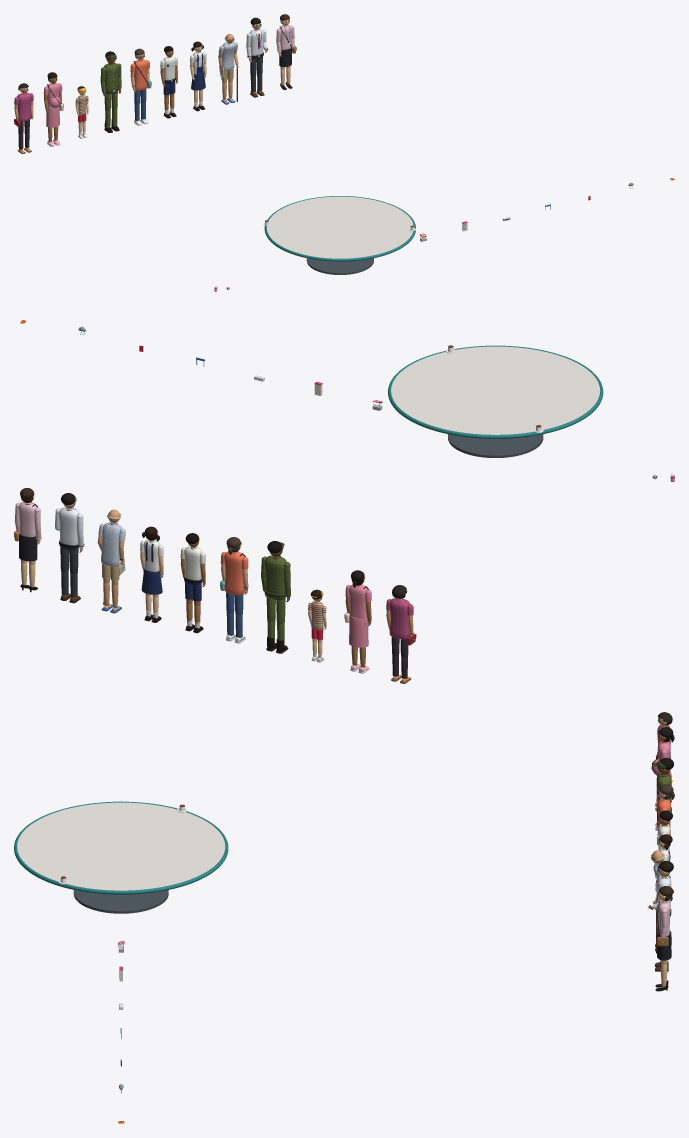
File: makan-assets.glb
3 views of the same model, one above another, from view 1: azimuth 30°, elevation 25°; view 2: azimuth 150°, elevation 25°; view 3: azimuth 270°, elevation 25° (orthographic). The views are drawn at different scales.
Visible parts, largest first — view 1: KT_top, Char_ns_Stand_Mesh, Char_worker_a_Stand_Mesh, Char_parent_Stand_Mesh, Char_uncle_Stand_Mesh, Char_expecting_Stand_Mesh, Char_worker_b_Stand_Mesh, Char_aunty_Stand_Mesh, Char_student_a_Stand_Mesh, Char_student_b_Stand_Mesh, KT_edge, KT_base (+1 smaller); view 2: KT_top, Char_ns_Stand_Mesh, Char_worker_a_Stand_Mesh, Char_parent_Stand_Mesh, Char_expecting_Stand_Mesh, Char_uncle_Stand_Mesh, Char_worker_b_Stand_Mesh, Char_aunty_Stand_Mesh, Char_student_a_Stand_Mesh, Char_student_b_Stand_Mesh, KT_base, KT_edge (+1 smaller); view 3: KT_top, KT_base, KT_edge, Char_worker_b_Stand_Mesh.
Part boxes in pixels (box(x1,y1,x2,y2)): KT_top: box(267, 196, 413, 258); Char_ns_Stand_Mesh: box(100, 51, 121, 132); Char_worker_a_Stand_Mesh: box(246, 17, 268, 97); Char_parent_Stand_Mesh: box(130, 48, 151, 125); Char_uncle_Stand_Mesh: box(218, 34, 238, 104); Char_expecting_Stand_Mesh: box(43, 72, 63, 146); Char_worker_b_Stand_Mesh: box(276, 14, 296, 89); Char_aunty_Stand_Mesh: box(14, 83, 33, 153); Char_student_a_Stand_Mesh: box(160, 46, 177, 118); Char_student_b_Stand_Mesh: box(190, 41, 206, 111); KT_edge: box(264, 196, 415, 261); KT_base: box(306, 258, 373, 274); KT_top: box(391, 346, 600, 434); Char_ns_Stand_Mesh: box(261, 541, 290, 653); Char_worker_a_Stand_Mesh: box(55, 493, 84, 603); Char_parent_Stand_Mesh: box(220, 537, 248, 643); Char_expecting_Stand_Mesh: box(344, 570, 371, 673); Char_uncle_Stand_Mesh: box(97, 509, 125, 613); Char_worker_b_Stand_Mesh: box(14, 488, 41, 592); Char_aunty_Stand_Mesh: box(386, 585, 416, 683); Char_student_a_Stand_Mesh: box(180, 533, 205, 633); Char_student_b_Stand_Mesh: box(140, 526, 163, 622); KT_base: box(448, 434, 543, 457); KT_edge: box(388, 345, 603, 438); KT_top: box(17, 802, 225, 890); KT_base: box(73, 890, 168, 913); KT_edge: box(14, 801, 228, 894); Char_worker_b_Stand_Mesh: box(655, 886, 673, 991).
Size of the model in its own units: 11.26 by 1.8 by 9.74.
Materials: 129 (9 with a texture image).
